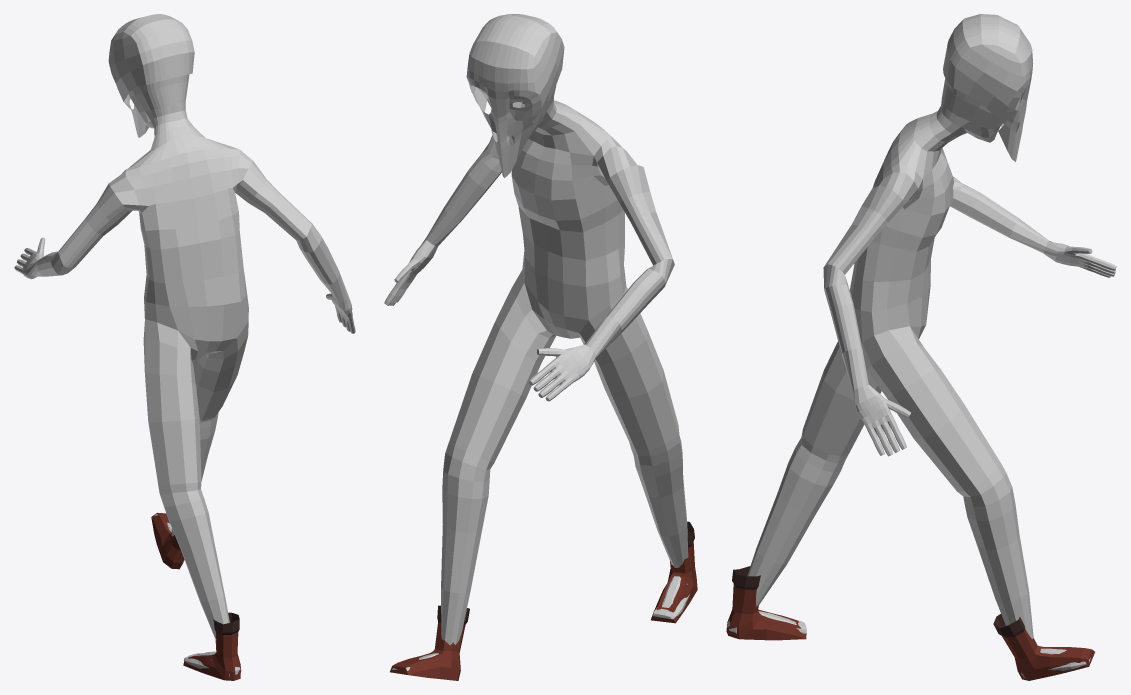
Rendered from marcha5_000051.obj.
3 views of the same model, side by side, from view 1: azimuth 30°, elevation 25°; view 2: azimuth 150°, elevation 25°; view 3: azimuth 270°, elevation 25° (orthographic). The views are drawn at different scales.
Visible parts, largest first — view 1: Plane.002_Plane.001, Plane.004, Plane.003; view 2: Plane.002_Plane.001, Plane.003, Plane.004; view 3: Plane.002_Plane.001, Plane.004, Plane.003.
Part boxes in pixels (x1,y1,x2,y2): Plane.002_Plane.001: (14,14,355,677); Plane.004: (183,612,240,680); Plane.003: (151,512,184,569); Plane.002_Plane.001: (384,14,689,670); Plane.003: (390,605,469,680); Plane.004: (651,521,697,623); Plane.002_Plane.001: (727,14,1116,677); Plane.004: (726,566,806,640); Plane.003: (993,614,1094,680).
Size of the model in its own units: 3.25 by 6.6 by 3.66.
